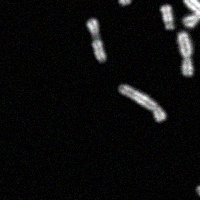chromosome: (118, 85, 165, 120), (87, 18, 105, 61), (178, 31, 193, 76), (183, 0, 200, 26), (184, 0, 200, 22), (160, 4, 173, 30), (99, 0, 130, 6), (197, 182, 200, 198)
